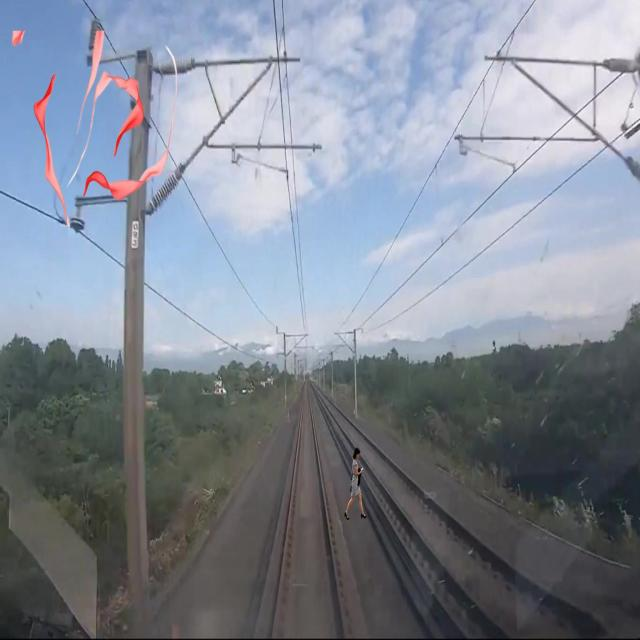floating object: (74, 48, 176, 200), (30, 71, 69, 227)
